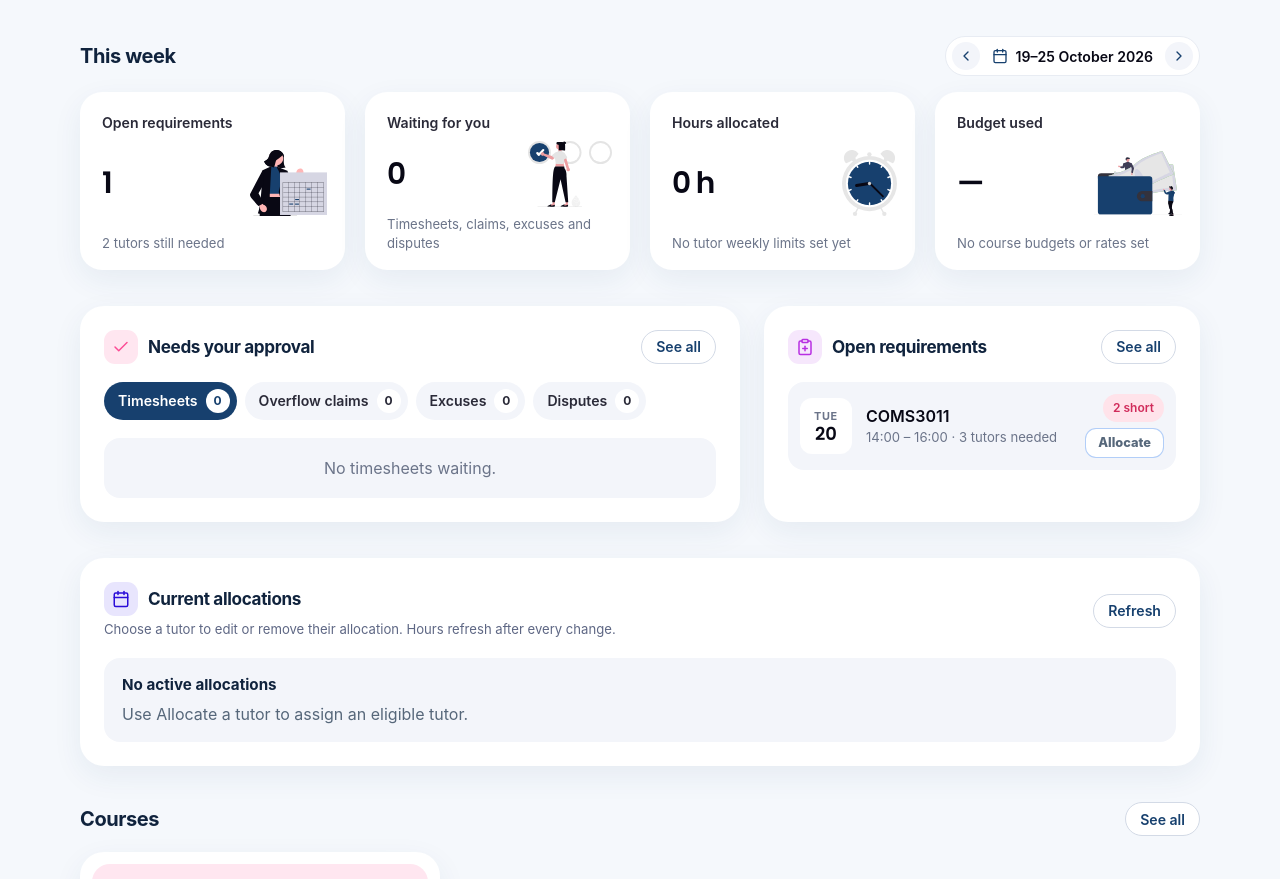
Test case: OrganiserDashboard › fills the board from an open staffing requirement
(page scrolled)
Expected: the text "2 short" is shown, [1103,394,1164,422]
Click the button with aria-label "allocate a tutor to COMS3011".
click(1125, 443)  # box [1085,428,1164,458]
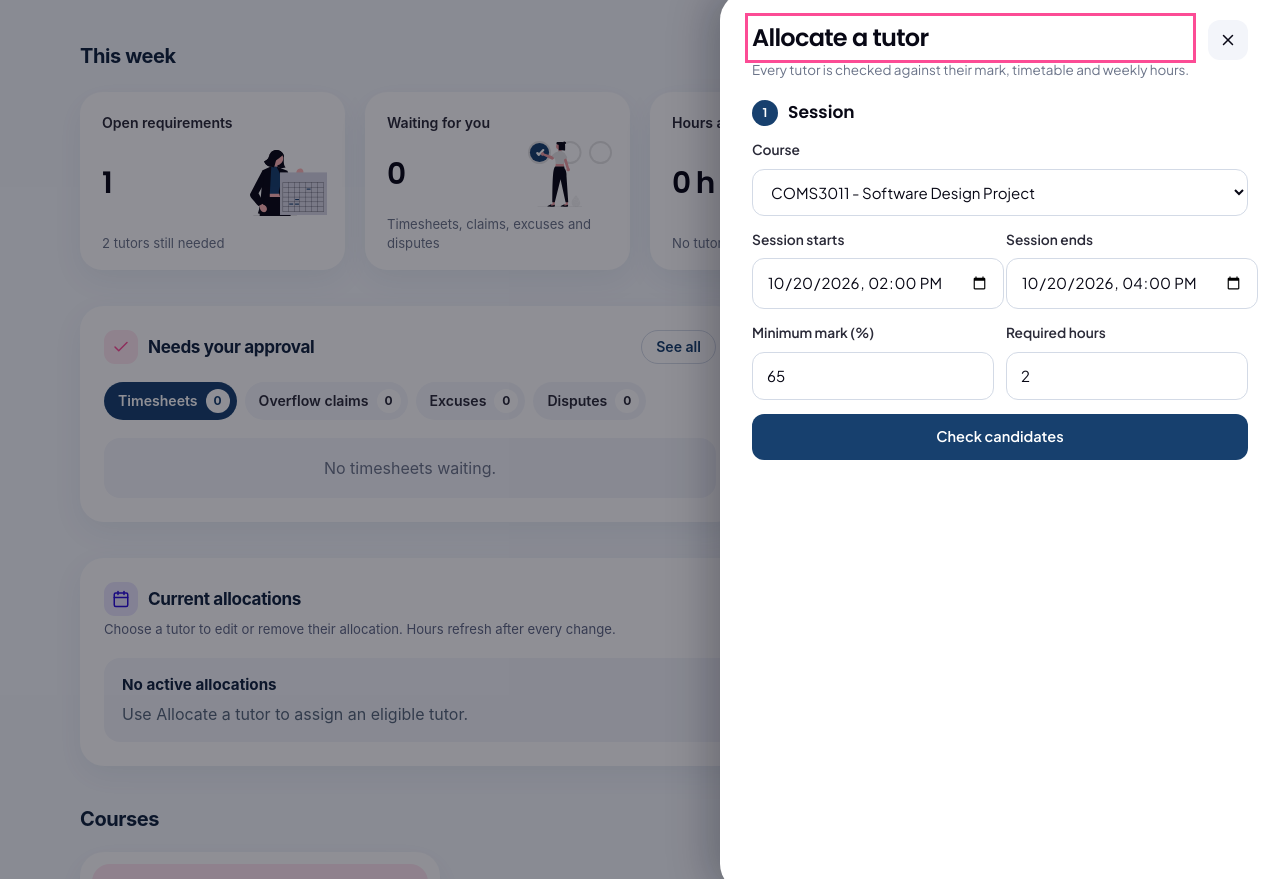
Expected: the dropdown labelled "Course" shows "COMS3011 - Software Design Project", [752,169,1248,216]
Expected: the field labelled "Session starts" is not empty, [752,258,1004,309]
Expected: the number field labelled "Required hours" holds "2", [1006,352,1248,400]
